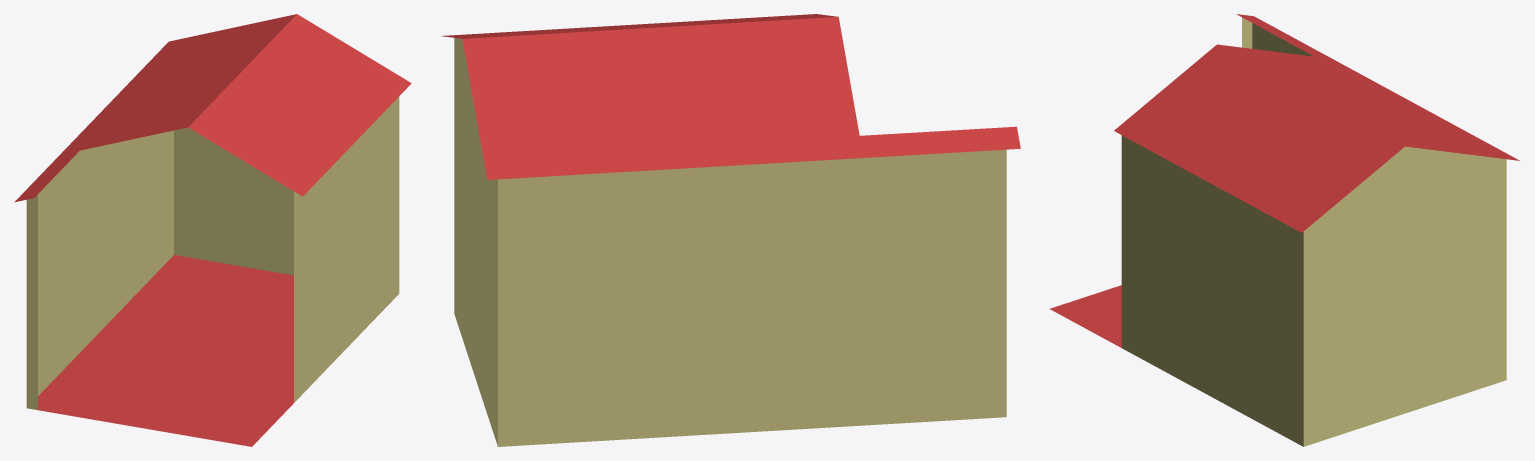
The picture shows the model from 3 angles, left to right: view 1: azimuth 30°, elevation 25°; view 2: azimuth 150°, elevation 25°; view 3: azimuth 270°, elevation 25°; orthographic projection. The views are drawn at different scales.
Size of the model in its own units: 12.73 by 11.7 by 7.46.
